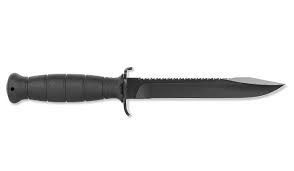knife: (3, 60, 291, 115)
